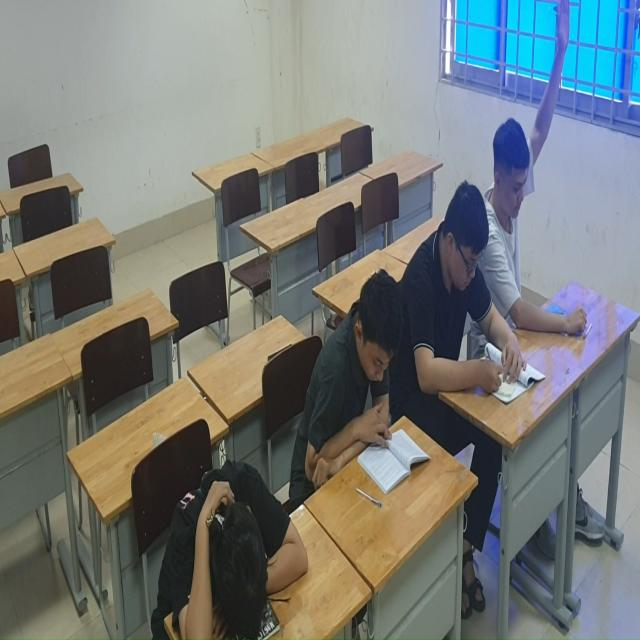raise_hand: (484, 1, 604, 350)
read: (417, 184, 529, 431), (311, 274, 421, 504)
sleep: (156, 456, 314, 639)
